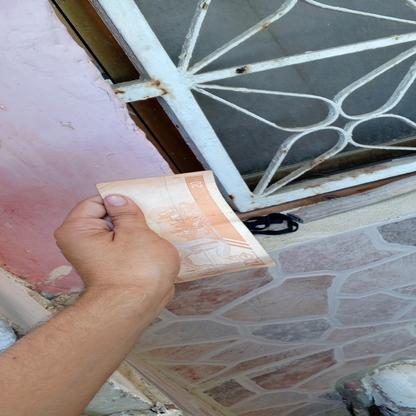twenty-back-vef: (95, 169, 278, 283)
